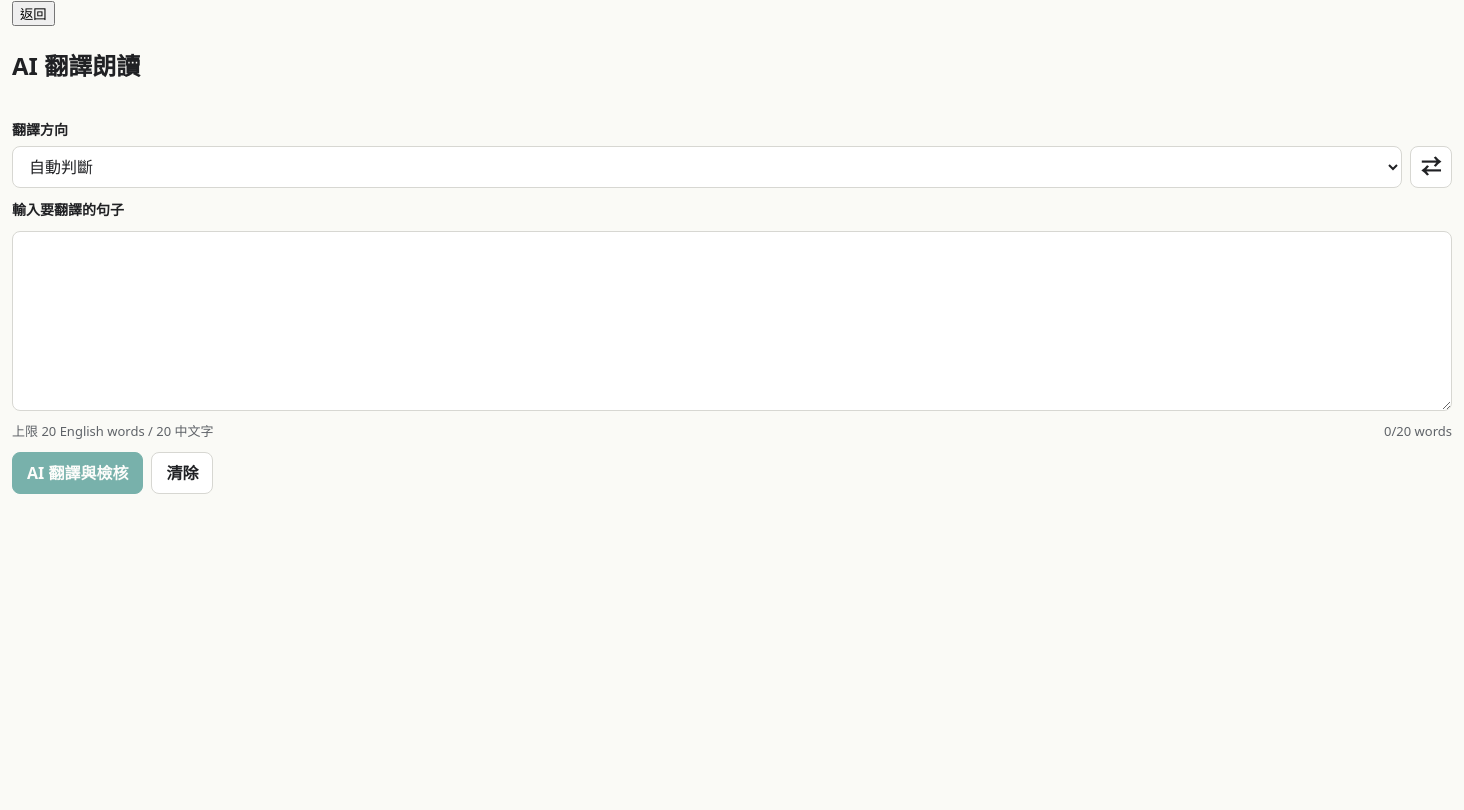
Test: TranslationReader › translates safe text and exposes validated result actions
This screenshot has width=1464, height=810.
Type "我每天走路去學校。" into the text box labelled "輸入要翻譯的句子" at (732, 321), box [12,231,1452,411]
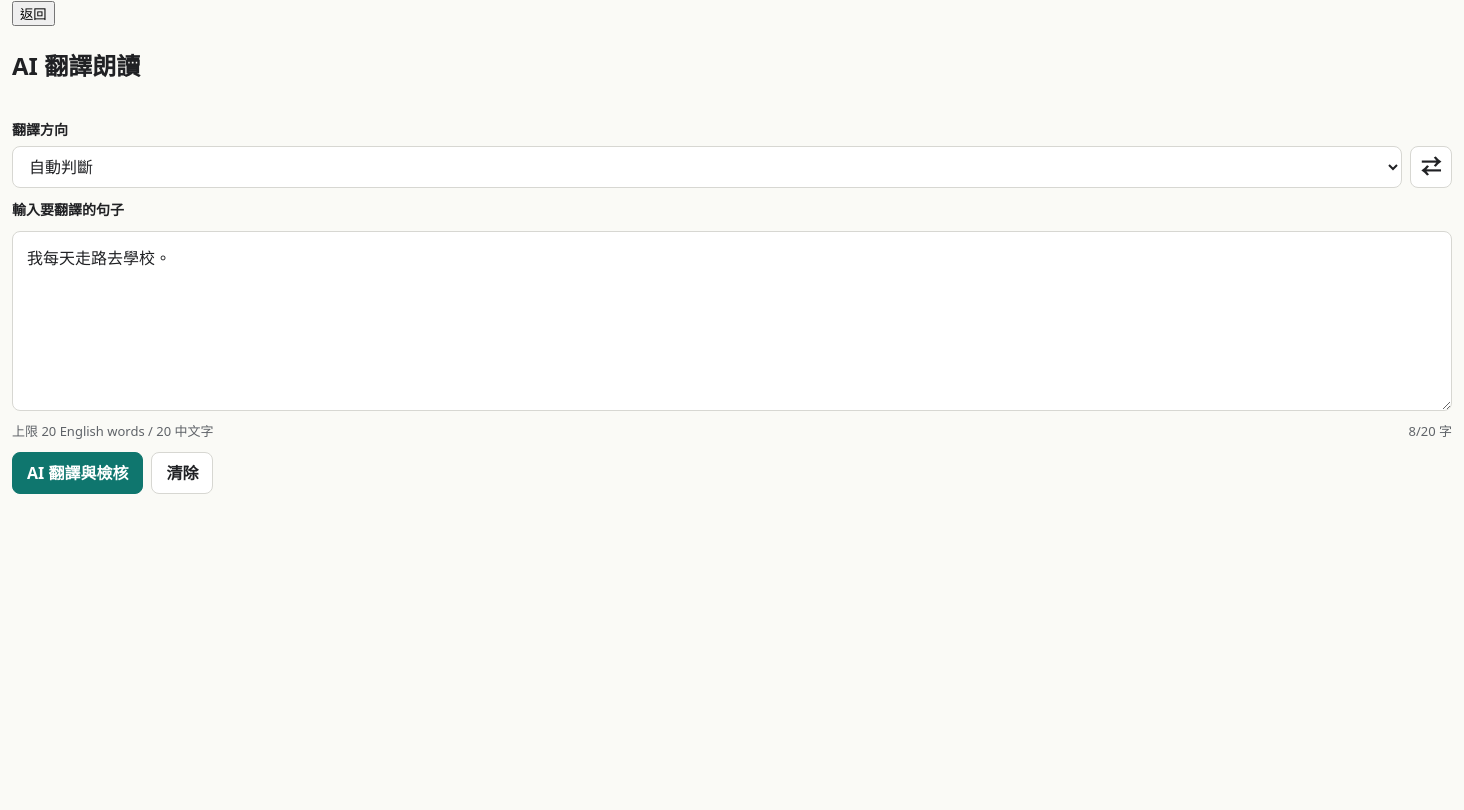
Expected: the text with test id "translation-count" reads "8/20 字", [1408,422,1452,440]
Click the button "AI 翻譯與檢核" at (78, 473), box [12,452,143,494]
(page scrolled)
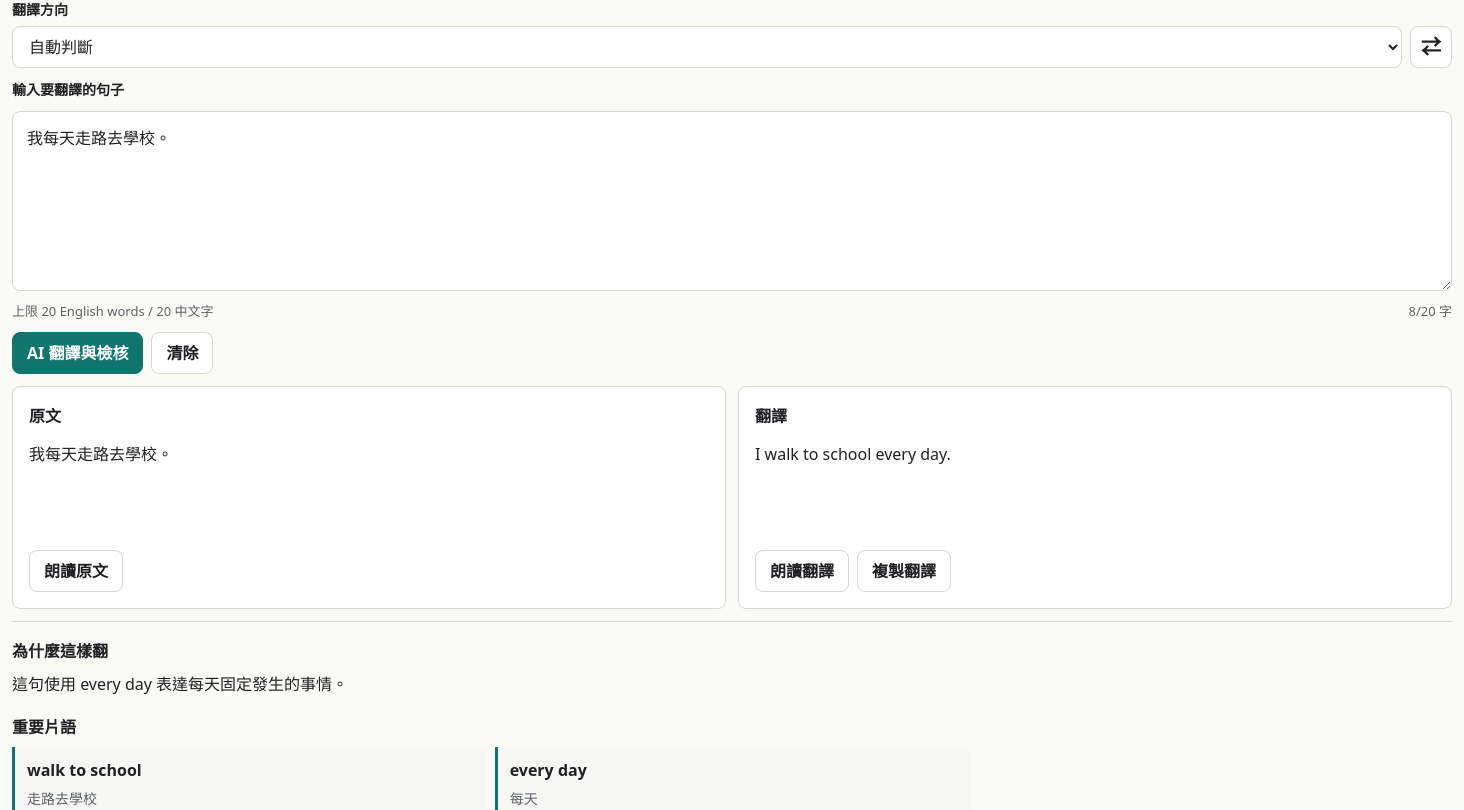
Expected: the text "I walk to school every day." is shown, [755,443,951,465]
Expected: the button "朗讀原文" is shown, [29,550,123,592]
Expected: the button "朗讀翻譯" is shown, [755,550,849,592]
